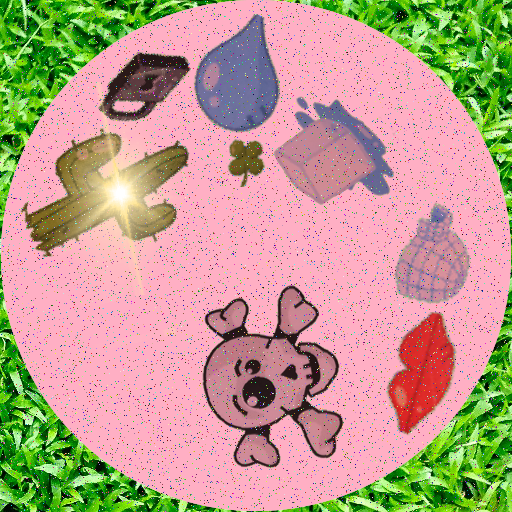cactus_icon: (8, 96, 199, 287)
cloverleaf_icon: (216, 135, 268, 187)
cube_icon: (255, 88, 399, 232)
igloo_icon: (380, 201, 484, 305)
lips_icon: (365, 312, 492, 439)
lock_icon: (98, 39, 193, 134)
raindrop_icon: (182, 14, 303, 135)
skull_icon: (164, 271, 372, 479)
